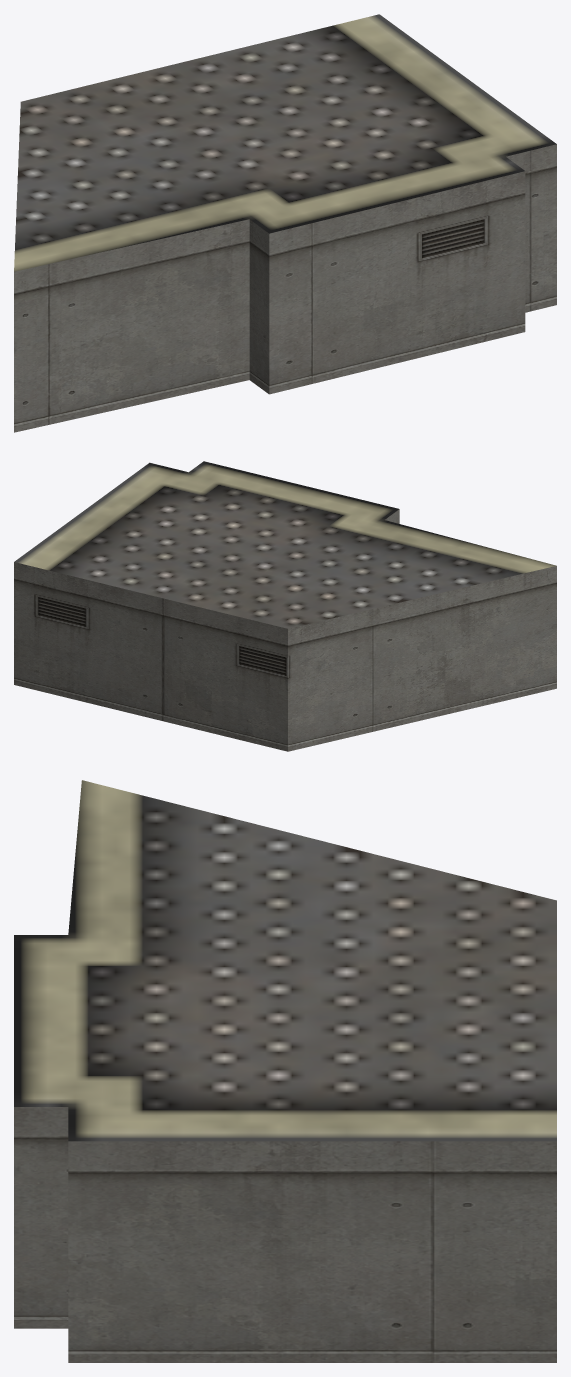
File: building_medium_a_33.glb
3 views of the same model, one above another, from view 1: azimuth 30°, elevation 25°; view 2: azimuth 150°, elevation 25°; view 3: azimuth 270°, elevation 25° (orthographic). The views are drawn at different scales.
Visible parts, largest first — view 1: buildings/saxarba/building_medium/building_medium_a_33; view 2: buildings/saxarba/building_medium/building_medium_a_33; view 3: buildings/saxarba/building_medium/building_medium_a_33.
Part boxes in pixels (<box>): buildings/saxarba/building_medium/building_medium_a_33: <box>14,14,556,432</box>; buildings/saxarba/building_medium/building_medium_a_33: <box>14,461,556,751</box>; buildings/saxarba/building_medium/building_medium_a_33: <box>14,780,556,1362</box>.
Size of the model in its own units: 63 by 18 by 40.
